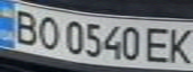0: (121, 24, 145, 62), (60, 18, 84, 56)
4: (103, 22, 124, 61)
5: (81, 20, 106, 60)
B: (6, 7, 42, 46)
E: (142, 25, 175, 64)
K: (163, 25, 193, 65)
O: (33, 13, 63, 51)
